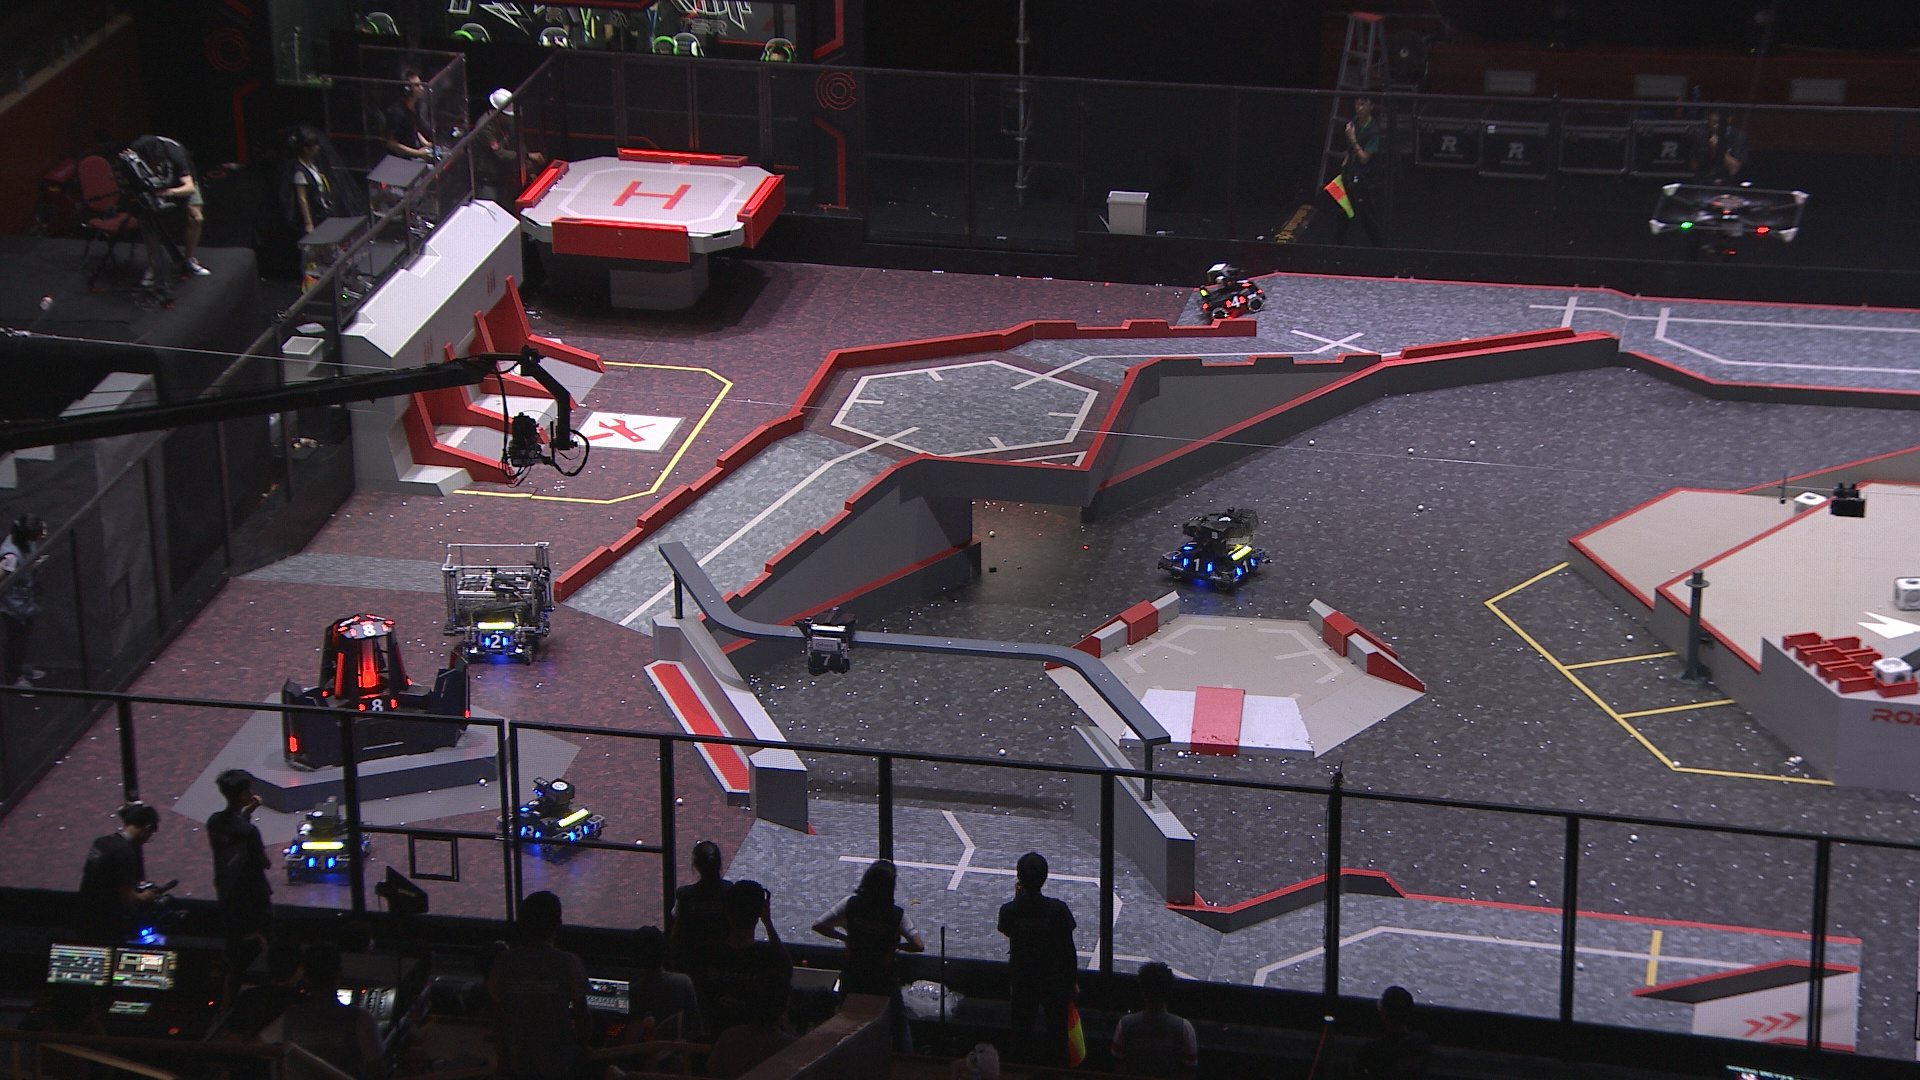armor: (356, 655, 381, 694), (357, 699, 400, 717), (330, 651, 345, 698), (347, 622, 390, 638), (1182, 556, 1215, 574), (306, 855, 338, 872), (814, 650, 843, 669), (483, 633, 509, 651), (1236, 556, 1257, 578), (518, 823, 545, 839), (568, 823, 589, 841), (517, 798, 539, 815), (1224, 295, 1247, 310), (285, 733, 301, 754), (1178, 541, 1200, 553), (1237, 276, 1254, 290), (462, 707, 469, 721)
base: (281, 613, 476, 770)
car: (440, 541, 556, 666), (1159, 505, 1273, 593), (493, 778, 609, 862), (278, 799, 373, 885), (1196, 258, 1269, 322)
watcher: (798, 612, 858, 680)
